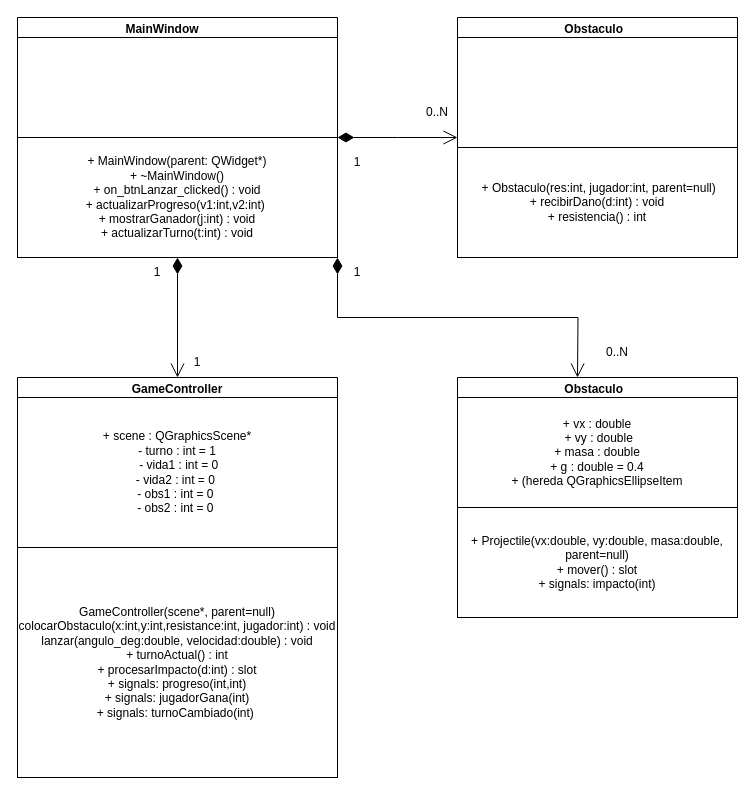
The diagram is 755 pixels wide and 795 high, and some of its shapes have lost their labels. The shapes that lost their labels are listed below. From the top down, each one's centre as x and y in pixels, then its label:
pixel 177 87: + ui : Ui::MainWindow* + scene : QGraphicsScene* + control : GameController*
pixel 597 92: + jugadorDueño : int - m_resistencia : int + (hereda QGraphicsRectItem)
